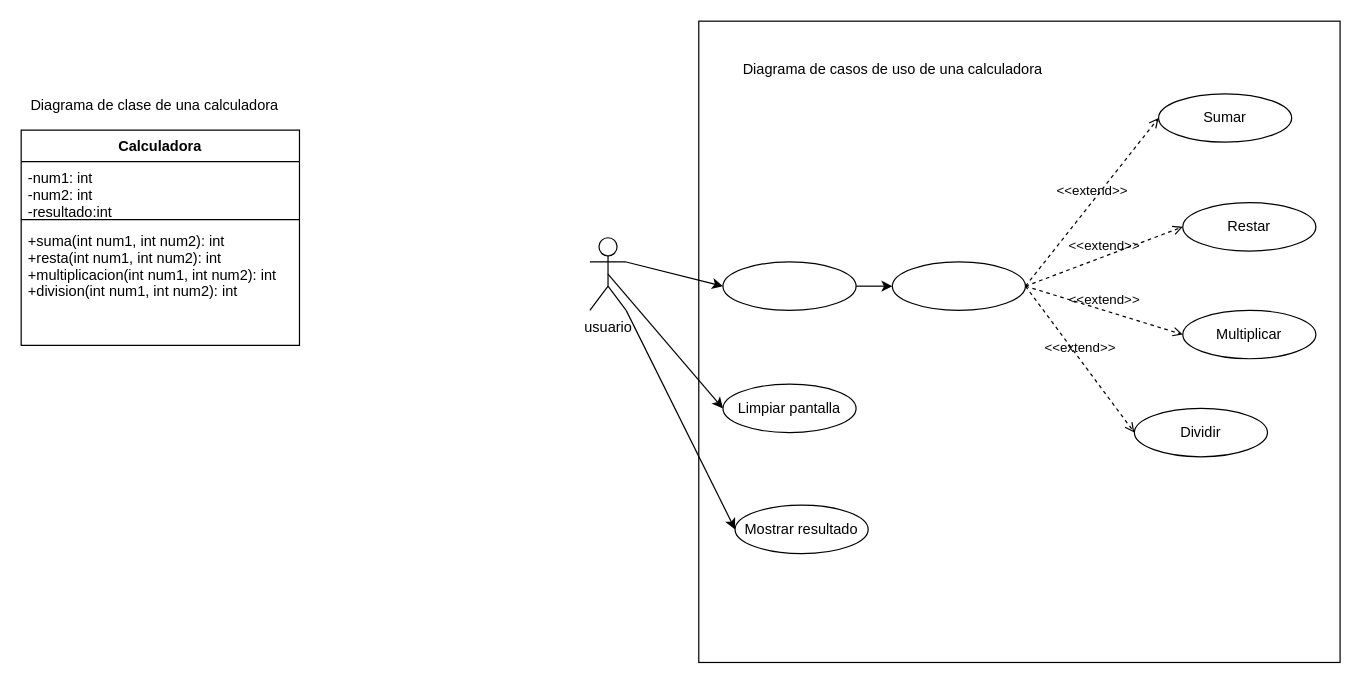
The diagram is 1361 pixels wide and 684 high, and some of its shapes have lost their labels. Each missing label, with the centre of its shape:
"Introducir numeros" belongs at point (789, 285).
"Introducir operador" belongs at point (958, 285).
